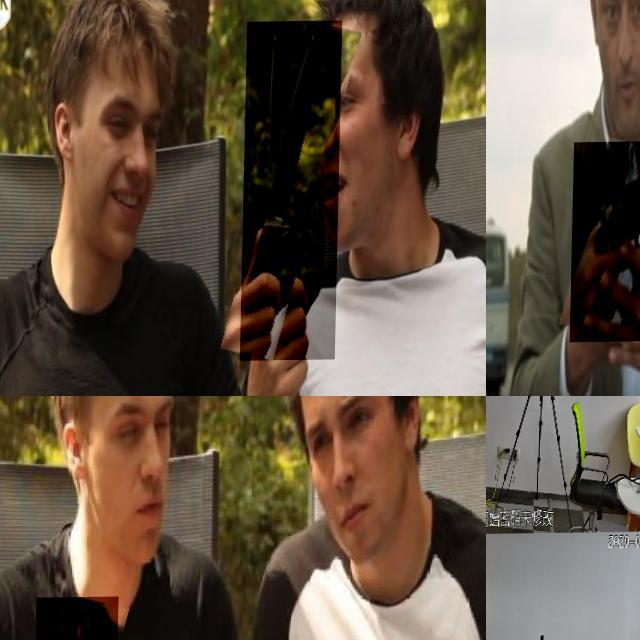-: (242, 21, 342, 362), (34, 597, 120, 640)
gun-knife-thesis - v11 Yolov5 augmented: (572, 142, 640, 342), (486, 595, 495, 640), (486, 609, 499, 640), (486, 396, 495, 419), (486, 396, 493, 420)
